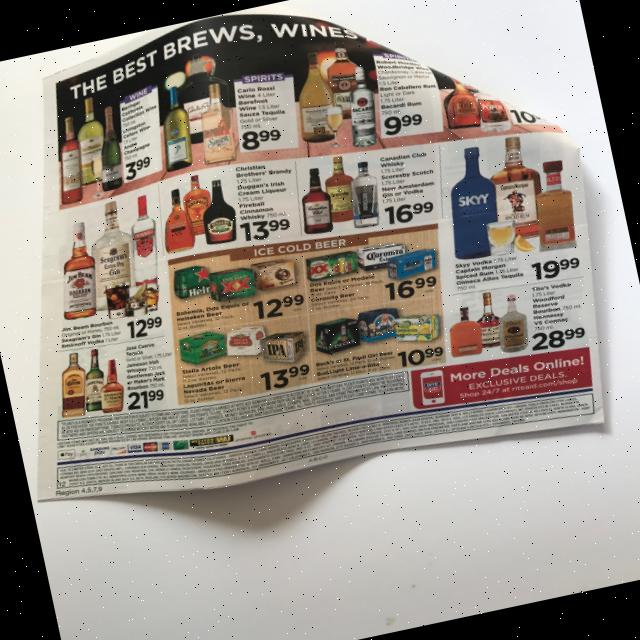paper: (0, 0, 637, 542)
